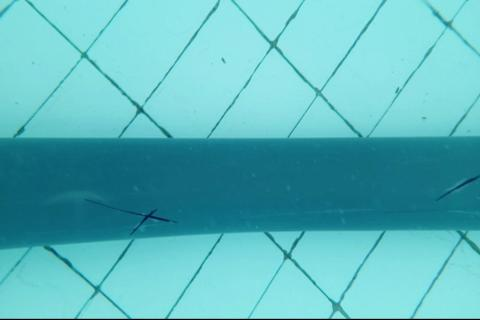keretakan: (83, 195, 179, 233), (436, 173, 479, 202)
